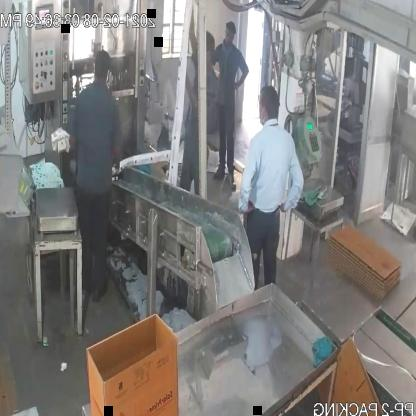no_glove: (277, 141, 306, 226), (232, 137, 256, 223), (231, 48, 253, 100)
